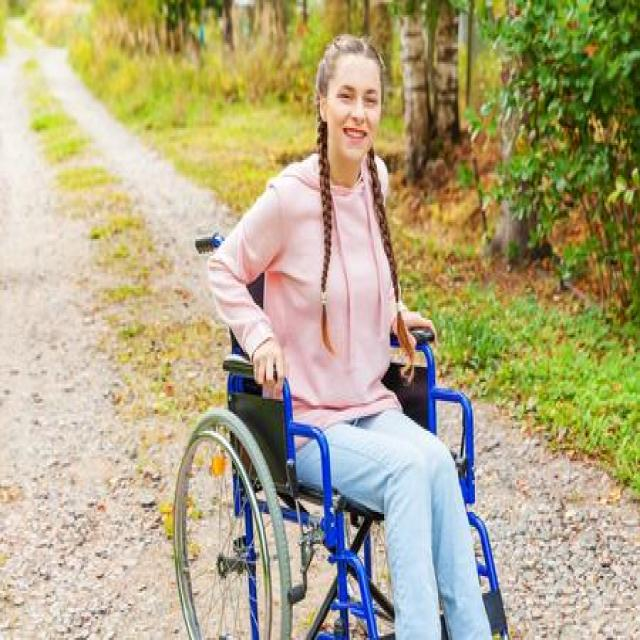wheelchairs: (160, 221, 520, 640)
